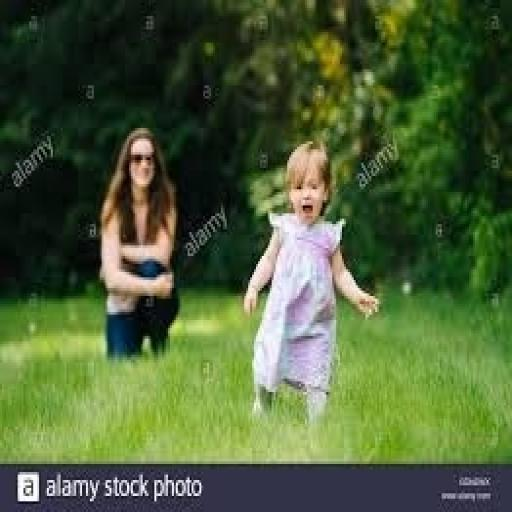running: (240, 139, 383, 429), (96, 125, 184, 363)
